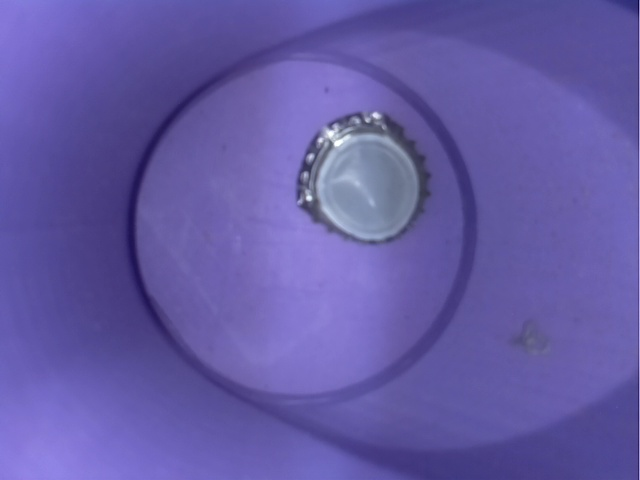capsule: (285, 103, 447, 264)
